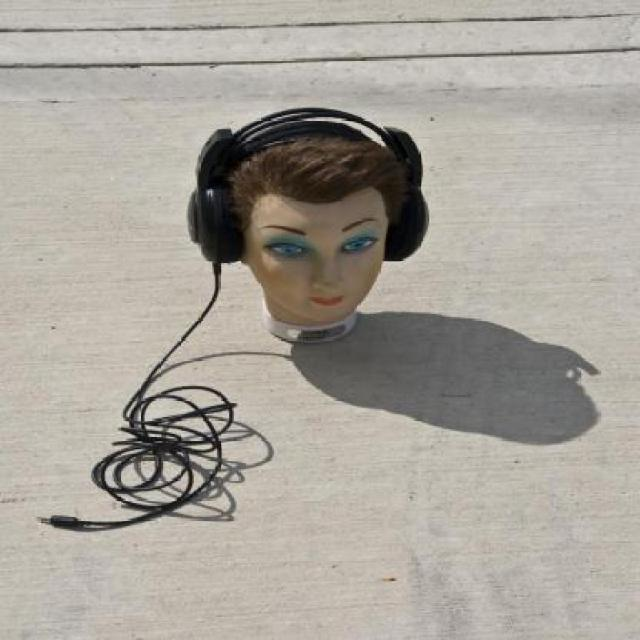earphone: (171, 86, 449, 278)
